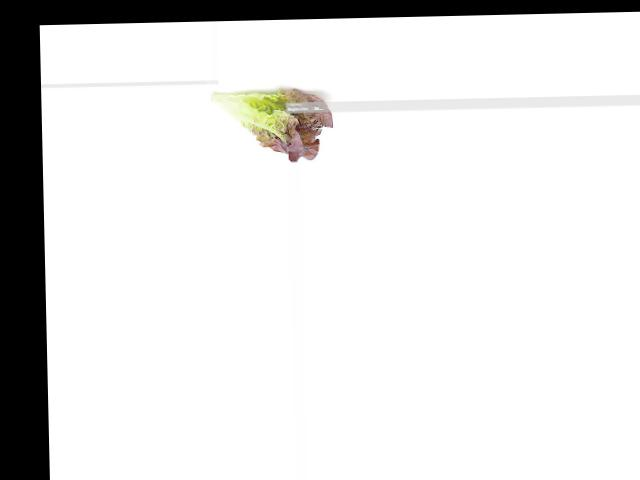lettuce: (206, 81, 336, 165)
